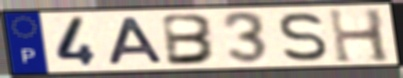3: (223, 10, 269, 67)
4: (53, 15, 104, 70)
A: (106, 16, 167, 67)
B: (161, 12, 220, 67)
H: (325, 7, 394, 65)
S: (277, 10, 330, 63)
